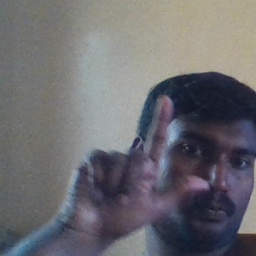L: (62, 94, 212, 230)
